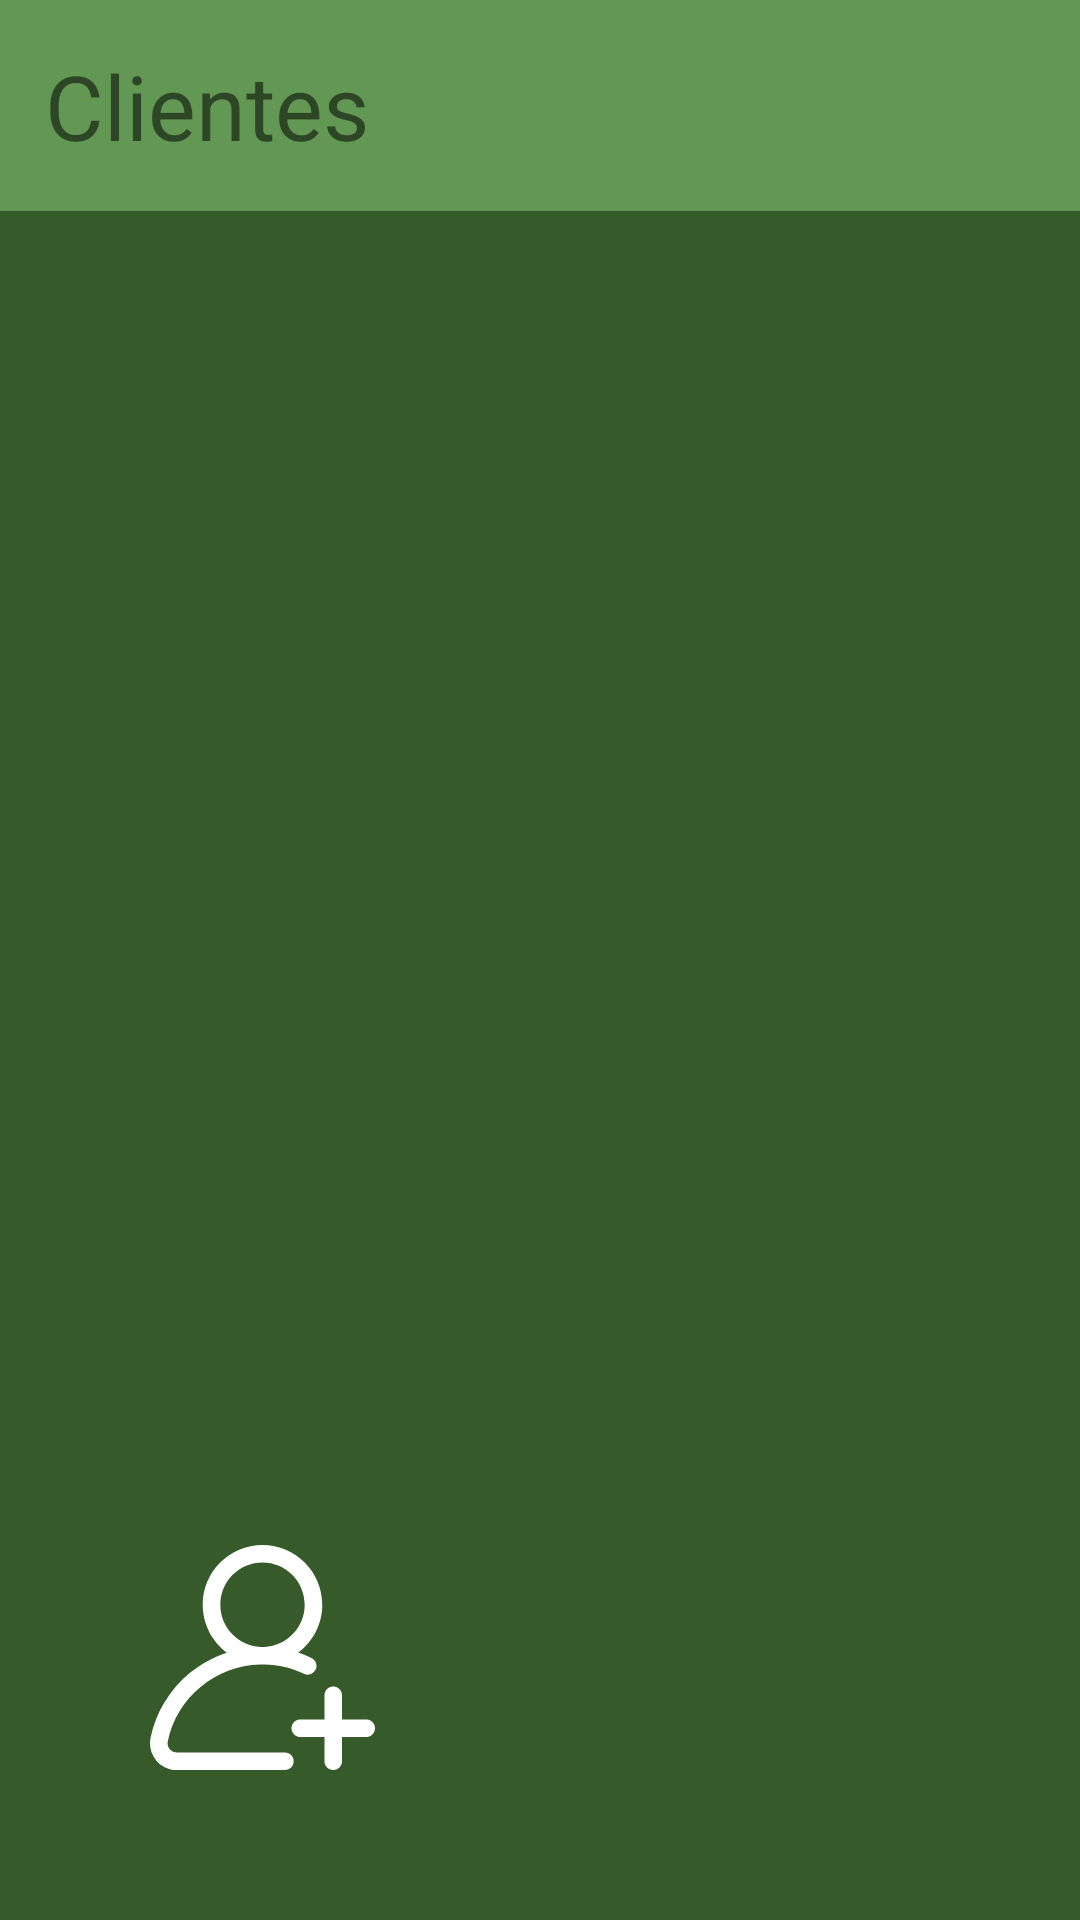

Icon click points for this 1080×1920 phone screenshot, format point (x, y):
button to add client: point (262, 1657)
